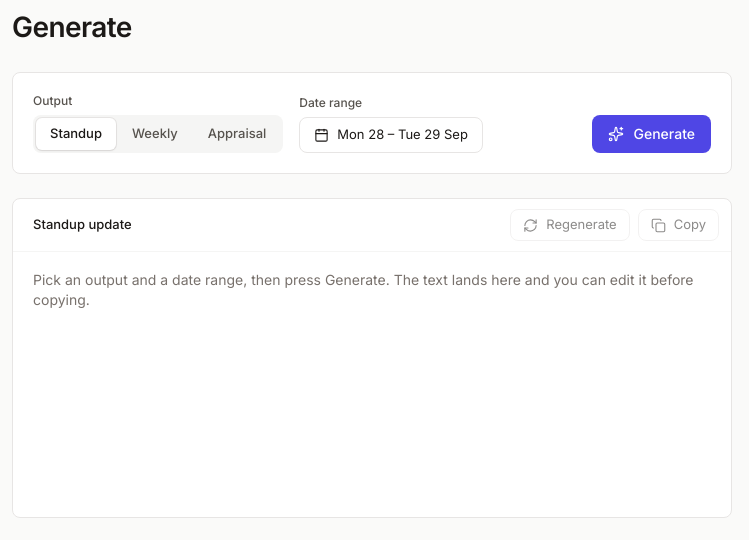
Test: GeneratorPanel › copies the output and shows Copied
Click the button "Generate": (651, 134) top-left (592, 115), bottom-right (711, 153)
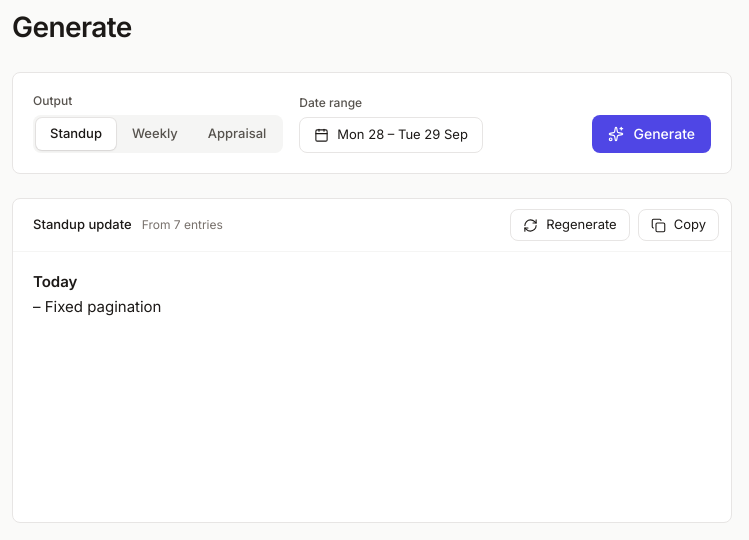
Click the button "Copy": (678, 225) top-left (638, 209), bottom-right (719, 241)
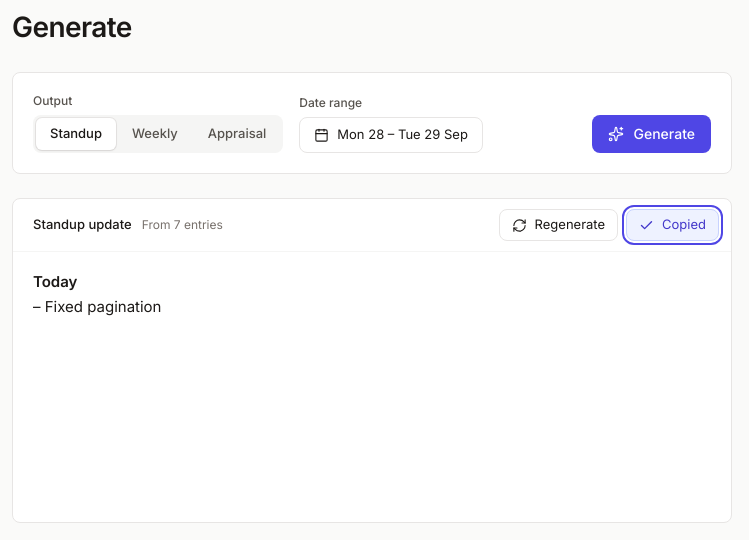
Result: the button "Copied" is shown at top-left (626, 209), bottom-right (719, 241)
